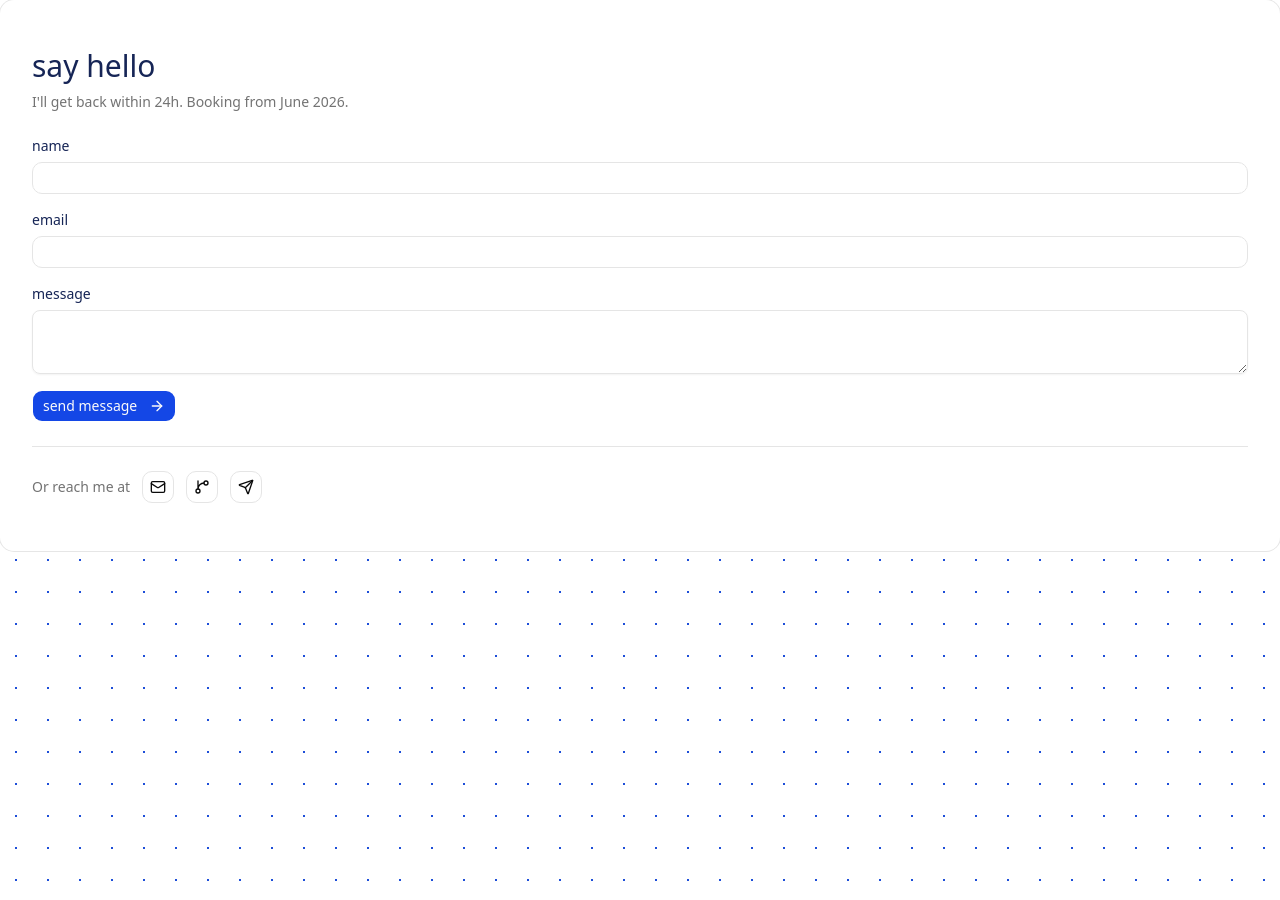
Test: <Contact /> › shows a validation message when submitting an empty form
The width and height of the screenshot is (1280, 900).
Click the button "send message" at {"x": 104, "y": 406}, box [32,390,176,422]
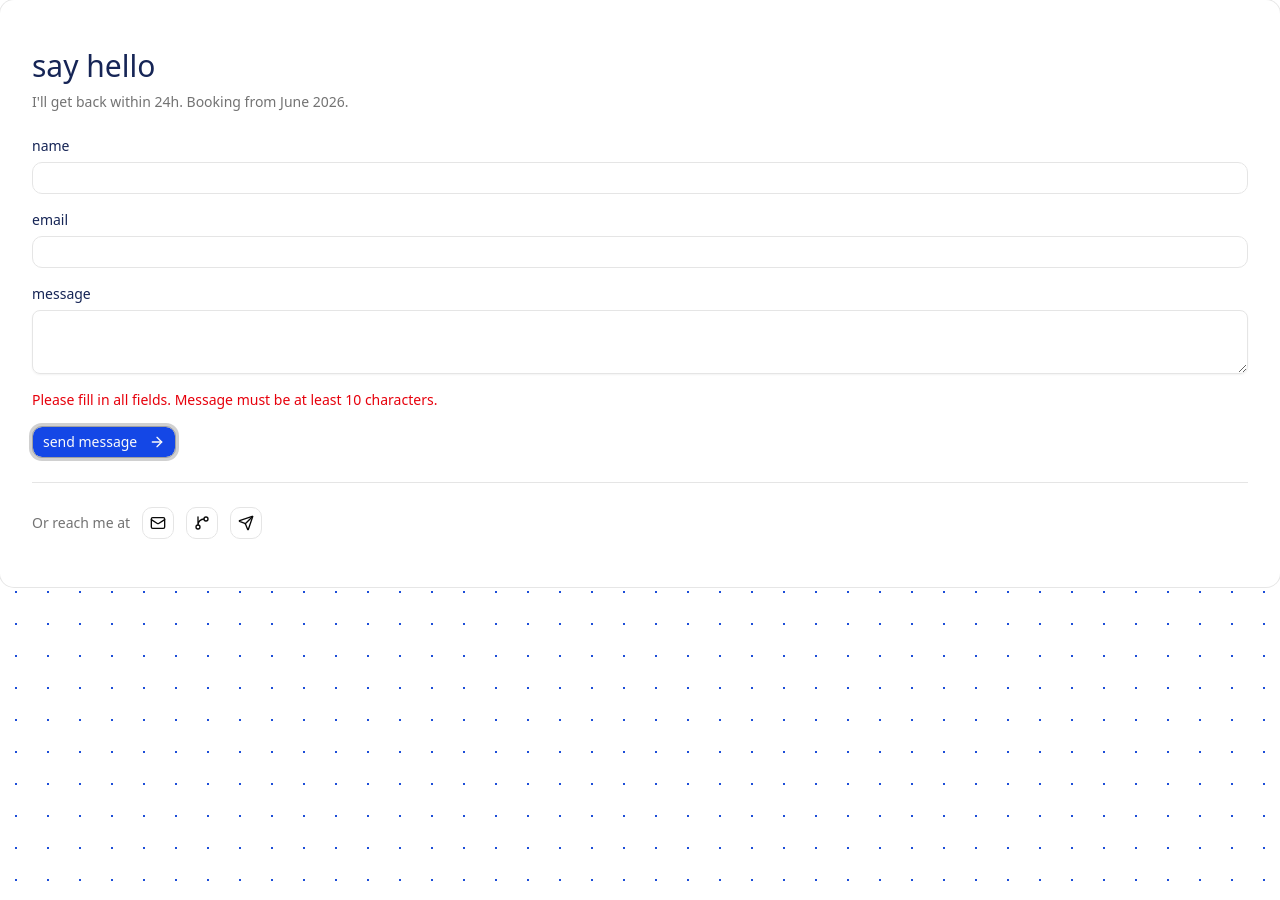
expect the text "Please fill in all fields" is shown: met, box [32,390,437,409]
